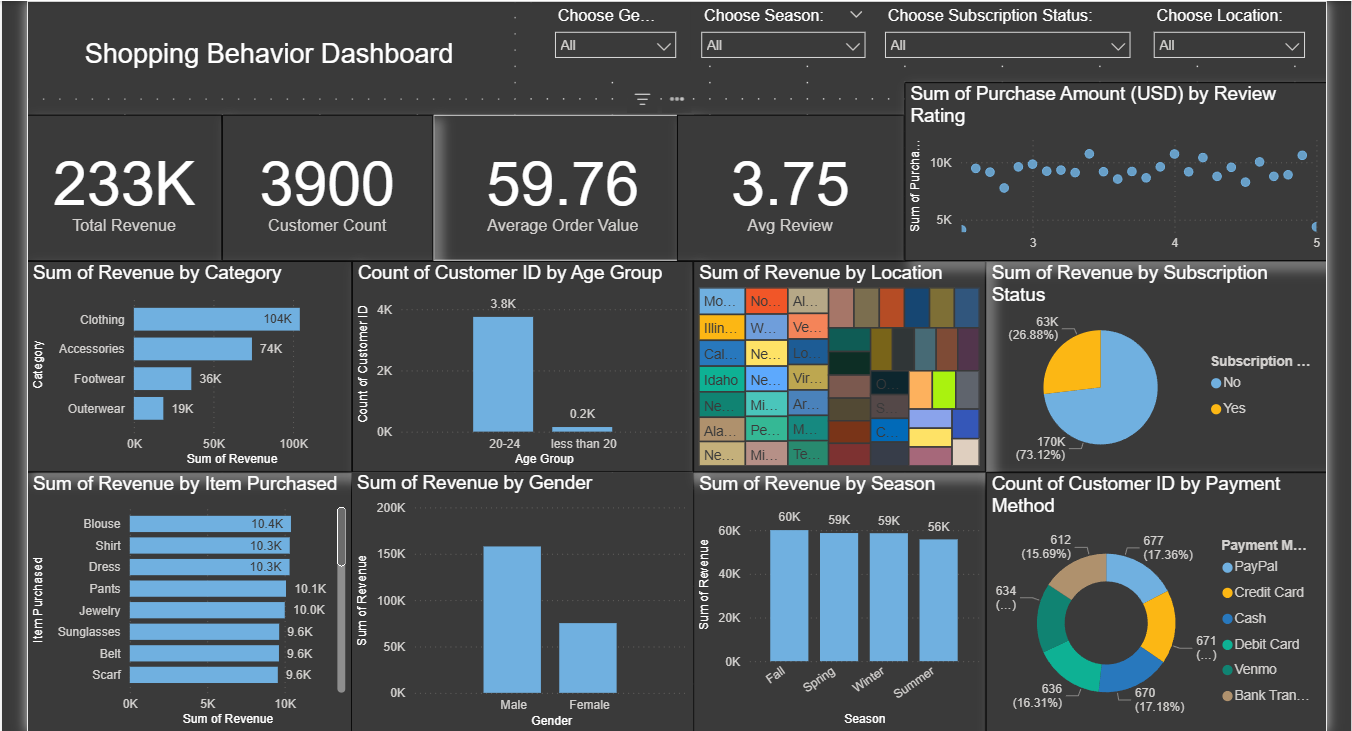

The dashboard page shown, as its layout file describes it:
{"tool":"powerbi","page":{"name":"Shopping Behavior","canvas":[1280,720],"ordinal":0},"visuals":[{"type":"card","fields":{"Values":["shopping_behavior_updated.Total Revenue"]},"box":[0,112,192,144],"z":0,"group":"g1"},{"type":"card","fields":{"Values":["shopping_behavior_updated.Average Order Value"]},"box":[400,112,256,144],"z":1000,"group":"g1"},{"type":"card","fields":{"Values":["shopping_behavior_updated.Avg Review"]},"box":[640,112,224,144],"z":2000,"group":"g1"},{"type":"card","fields":{"Values":["shopping_behavior_updated.Customer Count"]},"box":[192,112,208,144],"z":3000,"group":"g1"},{"type":"barChart","fields":{"Y":["Sum(shopping_behavior_updated.Revenue)"],"Category":["shopping_behavior_updated.Category"]},"box":[0,256,320,208],"z":4000,"group":"g1"},{"type":"barChart","fields":{"Y":["Sum(shopping_behavior_updated.Revenue)"],"Category":["shopping_behavior_updated.Item Purchased"]},"box":[0,464,320,256],"z":5000},{"type":"columnChart","fields":{"Y":["CountNonNull(shopping_behavior_updated.Customer ID)"],"Category":["shopping_behavior_updated.Age Group"]},"box":[320,256,336,208],"z":6000,"group":"g1"},{"type":"columnChart","fields":{"Category":["shopping_behavior_updated.Gender"],"Y":["Sum(shopping_behavior_updated.Revenue)"]},"box":[320,464,336,256],"z":7000,"group":"g1"},{"type":"pieChart","fields":{"Y":["Sum(shopping_behavior_updated.Revenue)"],"Category":["shopping_behavior_updated.Subscription Status"]},"box":[944,256,336,208],"z":8000,"group":"g1"},{"type":"columnChart","fields":{"Category":["shopping_behavior_updated.Season"],"Y":["Sum(shopping_behavior_updated.Revenue)"]},"box":[656,464,288,256],"z":9000},{"type":"treemap","fields":{"Group":["shopping_behavior_updated.Location"],"Values":["Sum(shopping_behavior_updated.Revenue)"]},"box":[656,256,288,208],"z":10000,"group":"g1"},{"type":"donutChart","fields":{"Y":["CountNonNull(shopping_behavior_updated.Customer ID)"],"Category":["shopping_behavior_updated.Payment Method"]},"box":[944,464,336,256],"z":11000,"group":"g1"},{"type":"scatterChart","fields":{"X":["shopping_behavior_updated.Review Rating"],"Y":["Sum(shopping_behavior_updated.Purchase Amount (USD))"]},"box":[864,80,416,176],"z":12000,"group":"g1"},{"type":"slicer","fields":{"Values":["shopping_behavior_updated.Gender"]},"box":[509.8,0,139.8,72.8],"z":13000},{"type":"slicer","fields":{"Values":["shopping_behavior_updated.Season"]},"box":[654,0,182.1,58.3],"z":14000},{"type":"slicer","fields":{"Values":["shopping_behavior_updated.Subscription Status"]},"box":[834.6,0,262.2,58.3],"z":15000},{"type":"slicer","fields":{"Values":["shopping_behavior_updated.Location"]},"box":[1099.7,0,169,58.3],"z":16000},{"type":"textbox","box":[0,0,480,96],"z":18000,"group":"g1"},{"type":"group","id":"g1","title":"Group 1","box":[0,0,1280,720],"z":18001}]}

Visuals, with their boxes in screenshot pixels (x1, y1, x2, y2):
card - shopping_behavior_updated.Total Revenue: BBox(0, 116, 200, 266)
card - shopping_behavior_updated.Average Order Value: BBox(416, 116, 682, 266)
card - shopping_behavior_updated.Avg Review: BBox(666, 116, 899, 266)
card - shopping_behavior_updated.Customer Count: BBox(200, 116, 416, 266)
barChart - Sum(shopping_behavior_updated.Revenue) x shopping_behavior_updated.Category: BBox(0, 266, 333, 483)
barChart - Sum(shopping_behavior_updated.Revenue) x shopping_behavior_updated.Item Purchased: BBox(0, 483, 333, 730)
columnChart - CountNonNull(shopping_behavior_updated.Customer ID) x shopping_behavior_updated.Age Group: BBox(333, 266, 682, 483)
columnChart - shopping_behavior_updated.Gender x Sum(shopping_behavior_updated.Revenue): BBox(333, 483, 682, 730)
pieChart - Sum(shopping_behavior_updated.Revenue) x shopping_behavior_updated.Subscription Status: BBox(982, 266, 1331, 483)
columnChart - shopping_behavior_updated.Season x Sum(shopping_behavior_updated.Revenue): BBox(682, 483, 982, 730)
treemap - shopping_behavior_updated.Location x Sum(shopping_behavior_updated.Revenue): BBox(682, 266, 982, 483)
donutChart - CountNonNull(shopping_behavior_updated.Customer ID) x shopping_behavior_updated.Payment Method: BBox(982, 483, 1331, 730)
scatterChart - shopping_behavior_updated.Review Rating x Sum(shopping_behavior_updated.Purchase Amount (USD)): BBox(899, 83, 1331, 266)
slicer - shopping_behavior_updated.Gender: BBox(530, 0, 676, 76)
slicer - shopping_behavior_updated.Season: BBox(680, 0, 870, 60)
slicer - shopping_behavior_updated.Subscription Status: BBox(868, 0, 1141, 60)
slicer - shopping_behavior_updated.Location: BBox(1144, 0, 1319, 60)
textbox: BBox(0, 0, 499, 100)
"Group 1" group: BBox(0, 0, 1331, 730)
